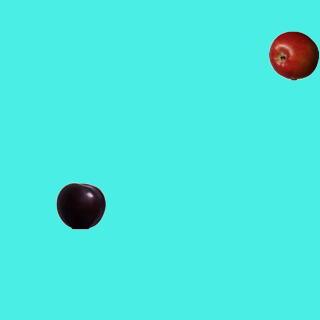Apple Braeburn: (268, 30, 318, 80)
Cherry Wax Black: (55, 180, 105, 230)
